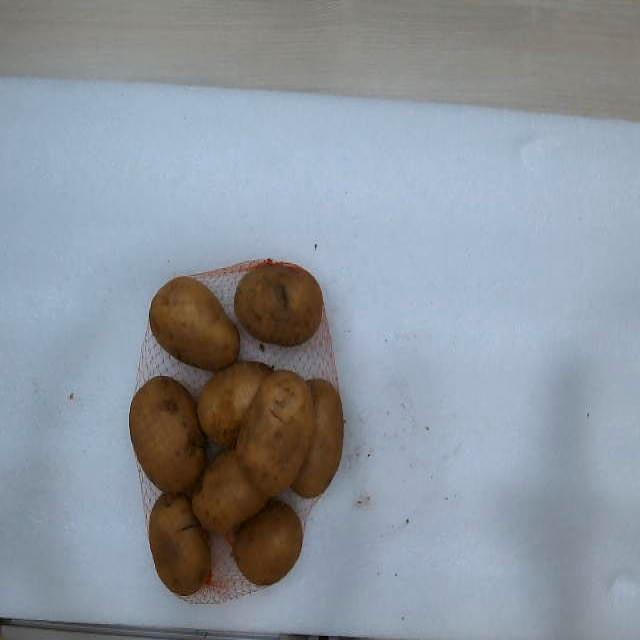potato: (236, 370, 314, 495), (131, 377, 206, 493), (149, 277, 240, 371), (234, 263, 322, 344), (192, 450, 268, 535), (291, 378, 344, 498), (150, 493, 210, 594), (198, 362, 271, 444), (232, 502, 302, 585)
